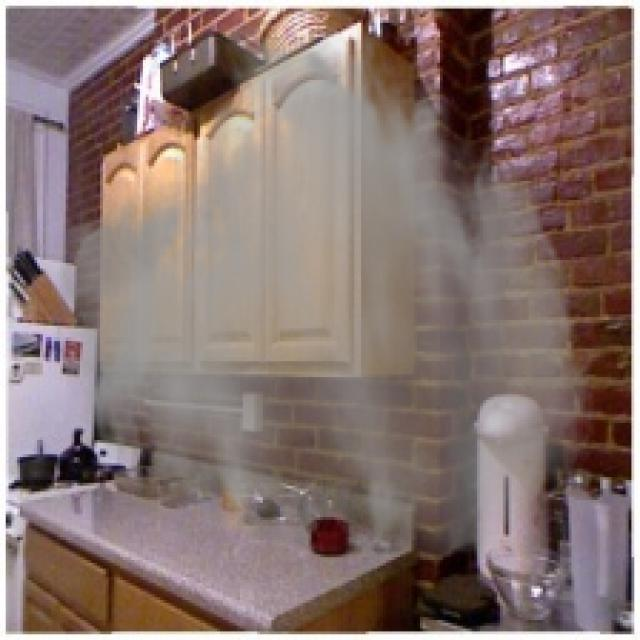Smoke: (49, 8, 600, 566)
